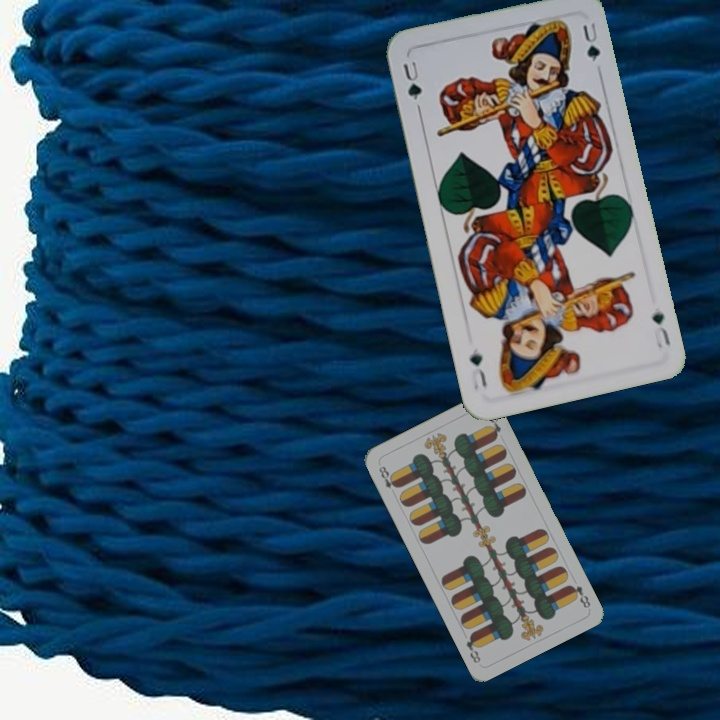E8: (565, 581, 593, 611), (375, 462, 401, 491)
GU: (398, 57, 425, 103), (648, 307, 673, 351)
